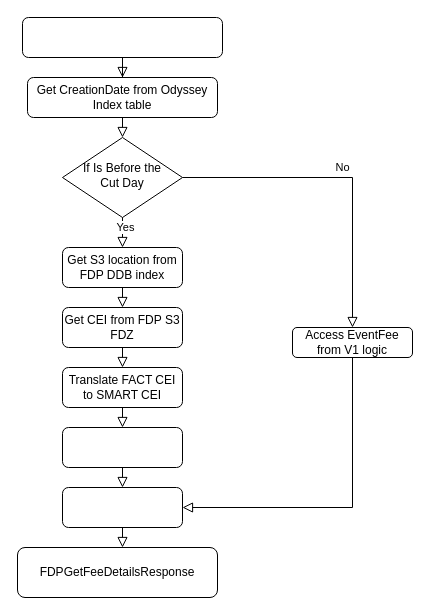
Image size: 430x615. Some labels were removed from this diagram. Each missing label, with the centre of its shape:
"FDPGetFeeDetailsRequest" belongs at pixel 122 37.
"Translate SMART CEI to FEI and EventFee" belongs at pixel 122 447.
"Wrap EventFee to Response" belongs at pixel 122 507.
